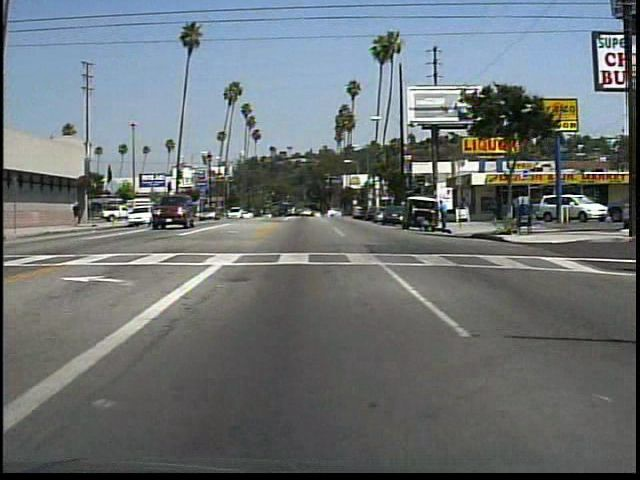person: (437, 197, 453, 234), (484, 192, 499, 221), (414, 215, 432, 233), (73, 199, 83, 228)
